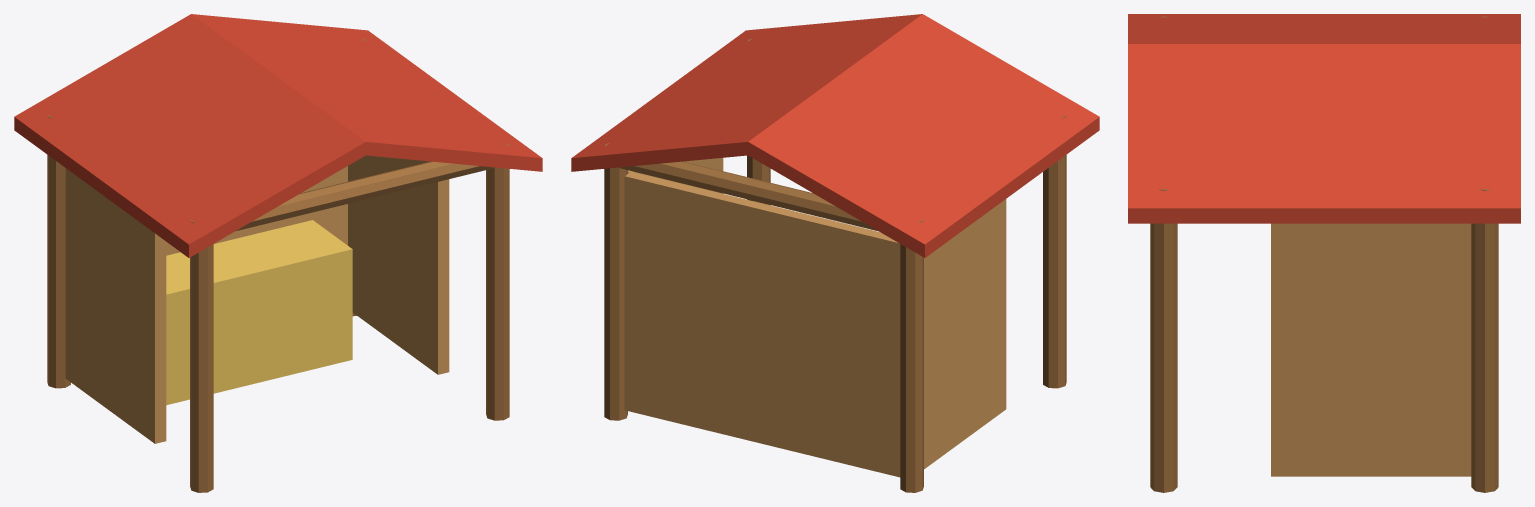
Rendered from FTF_Building_HayShed_Open_4m.glb.
3 views of the same model, side by side, from view 1: azimuth 30°, elevation 25°; view 2: azimuth 150°, elevation 25°; view 3: azimuth 270°, elevation 25° (orthographic). The views are drawn at different scales.
Visible parts, largest first — view 1: FTF_Building_HayShed_Open_4m_Mesh; view 2: FTF_Building_HayShed_Open_4m_Mesh; view 3: FTF_Building_HayShed_Open_4m_Mesh.
Part boxes in pixels (x1,y1,x2,y2): FTF_Building_HayShed_Open_4m_Mesh: (14,14,542,492); FTF_Building_HayShed_Open_4m_Mesh: (571,14,1099,492); FTF_Building_HayShed_Open_4m_Mesh: (1128,14,1520,492).
Bounding box in the file's own units: 4.35 × 3.78 × 3.72.
